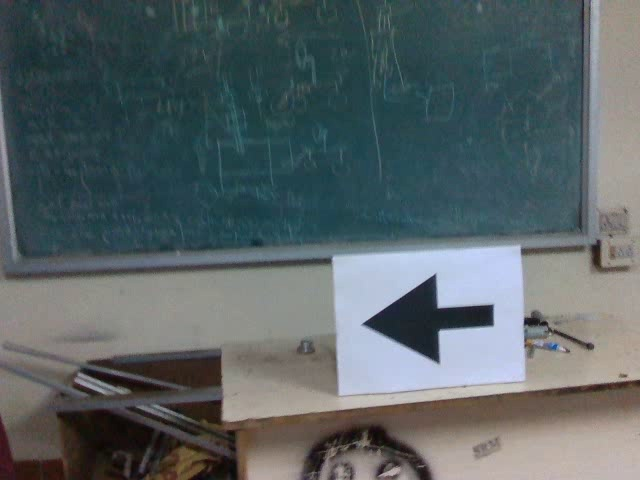Left: (353, 266, 502, 370)
